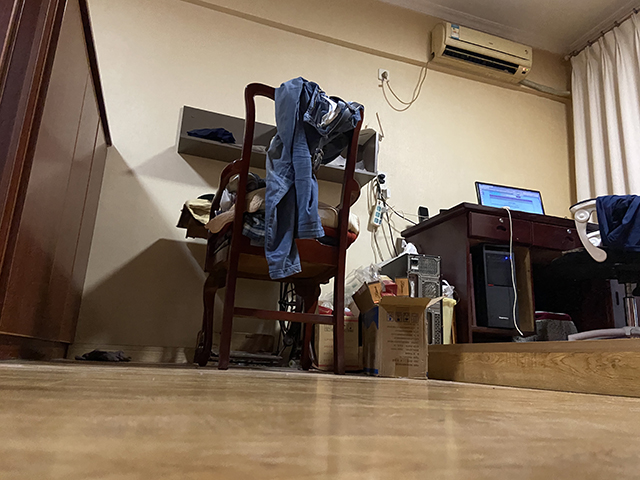cabinet: (1, 1, 110, 362)
curtain: (564, 10, 640, 203)
socks: (73, 347, 132, 363)
stool: (192, 81, 367, 376), (550, 193, 640, 342)
table: (400, 200, 635, 343)
